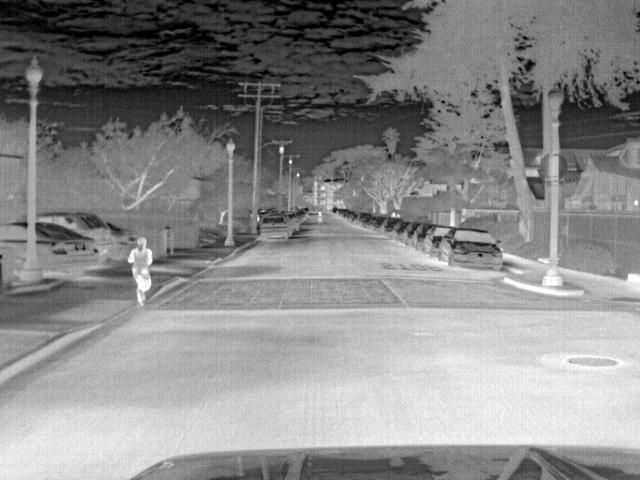car: (40, 213, 122, 265), (37, 221, 99, 281), (442, 228, 506, 273), (105, 223, 136, 264), (2, 219, 28, 267), (426, 224, 455, 259), (258, 214, 294, 240), (412, 223, 434, 252), (403, 221, 419, 246), (380, 218, 399, 236), (391, 221, 408, 240), (356, 212, 374, 227)
person: (127, 236, 156, 308)
